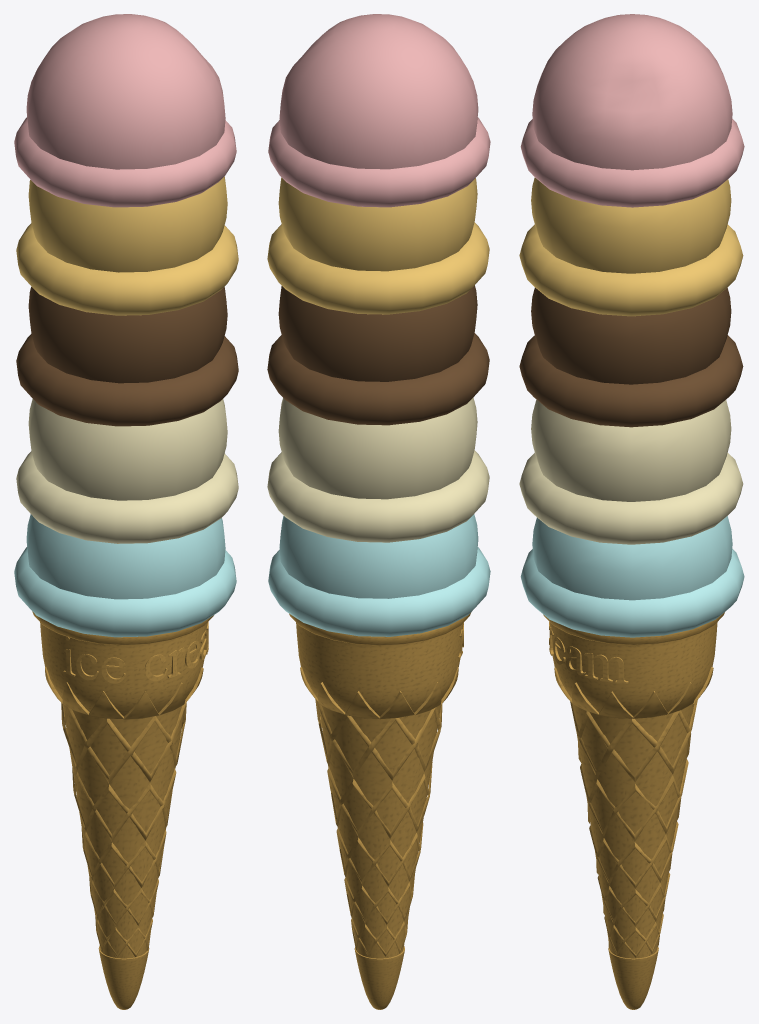
The model's file is Ice.fbx.
3 views of the same model, side by side, from view 1: azimuth 30°, elevation 25°; view 2: azimuth 150°, elevation 25°; view 3: azimuth 270°, elevation 25° (orthographic).
Parts seen in each view (by area): view 1: kon, tama6, tama1, tama3, tama5, tama2; view 2: kon, tama6, tama1, tama3, tama5, tama2; view 3: kon, tama6, tama1, tama3, tama5, tama2.
Part boxes in pixels (x1,y1,x2,y2): kon: (32,611,213,1009); tama6: (14,14,236,207); tama1: (16,399,238,543); tama3: (16,287,238,426); tama5: (16,176,238,315); tama2: (14,514,236,637); kon: (289,612,471,1009); tama6: (268,14,490,207); tama1: (267,397,489,542); tama3: (267,285,489,425); tama5: (267,177,489,314); tama2: (268,514,490,636); kon: (543,612,724,1009); tama6: (520,14,744,207); tama1: (519,399,743,544); tama3: (519,287,743,427); tama5: (519,177,743,316); tama2: (520,516,744,637).
Bounding box in the file's own units: 7.96 × 38.35 × 7.94.
7 materials, 1 textured.
